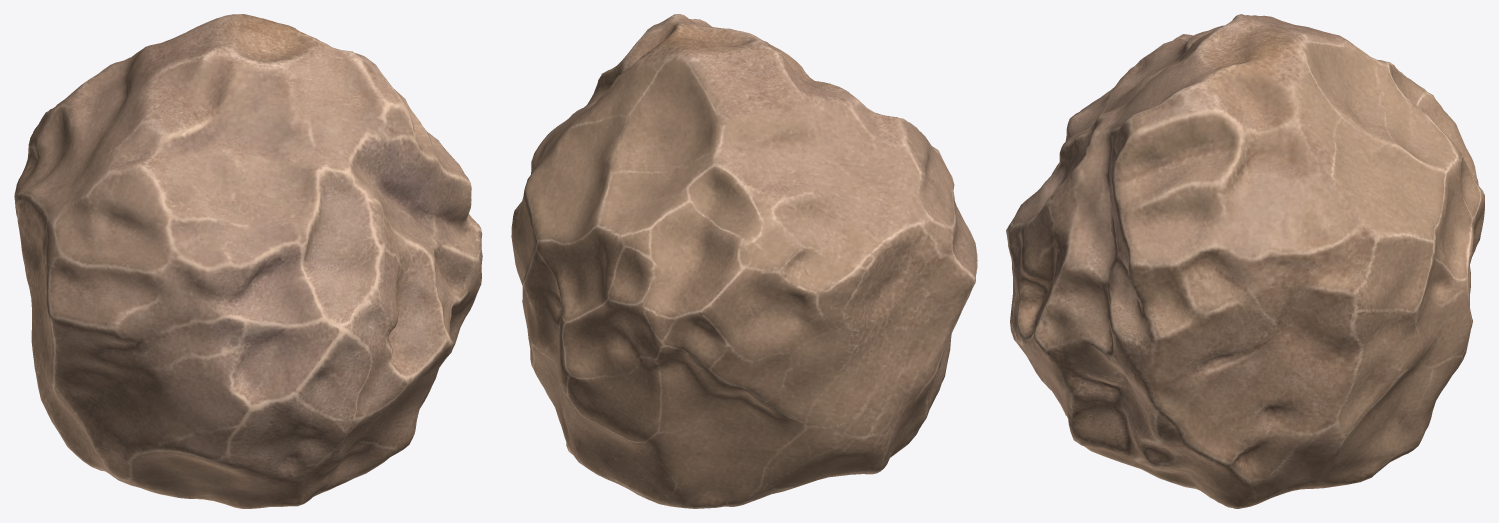
File: asteroid_2.glb
The picture shows the model from 3 angles, left to right: view 1: azimuth 30°, elevation 25°; view 2: azimuth 150°, elevation 25°; view 3: azimuth 270°, elevation 25°; orthographic projection.
Size of the model in its own units: 1.9 by 1.81 by 1.88.
Materials: 1 (1 with a texture image).
